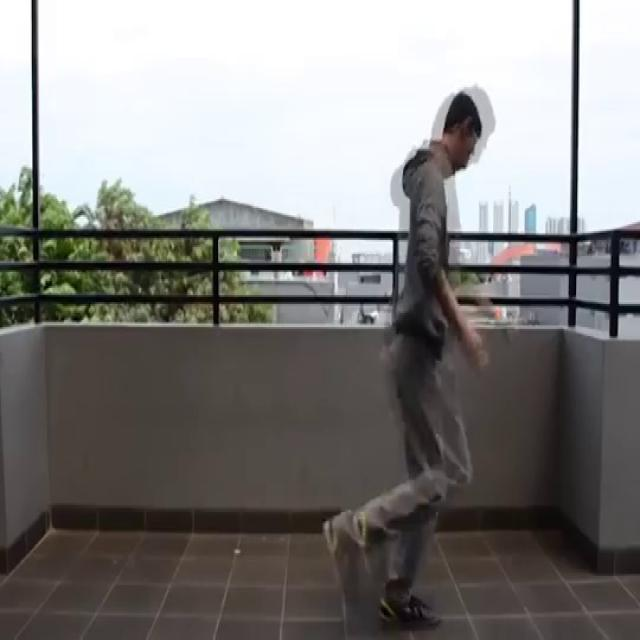normal: (326, 80, 505, 631)
